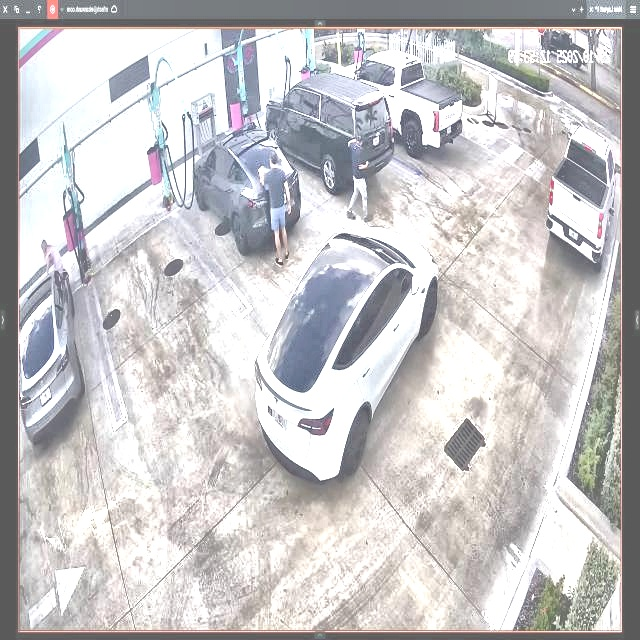Car: (254, 226, 438, 483), (266, 65, 392, 190), (194, 128, 298, 259), (339, 46, 462, 155)
